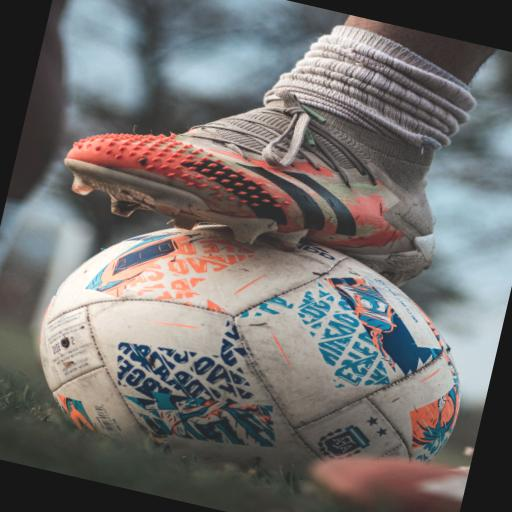shoe: (64, 90, 433, 285)
